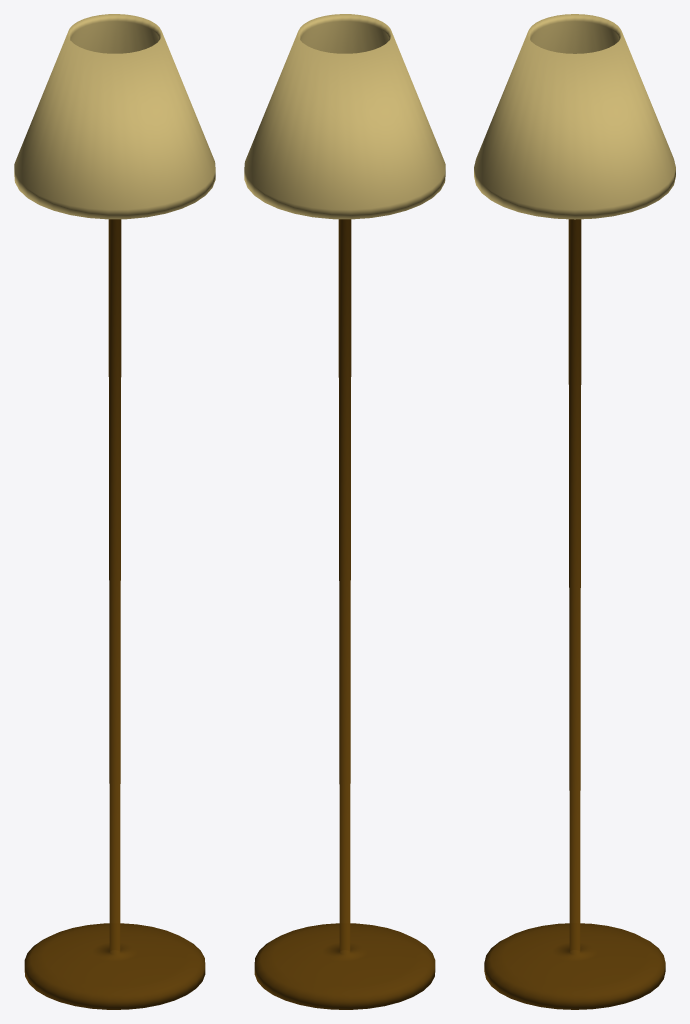
The model's file is VJ_Lampara_Peu.fbx.
3 views of the same model, side by side, from view 1: azimuth 30°, elevation 25°; view 2: azimuth 150°, elevation 25°; view 3: azimuth 270°, elevation 25° (orthographic).
Parts seen in each view (by area): view 1: Lampara_Peu; view 2: Lampara_Peu; view 3: Lampara_Peu.
Part boxes in pixels (x1,y1,x2,y2): Lampara_Peu: [14, 14, 215, 1009]; Lampara_Peu: [244, 14, 445, 1009]; Lampara_Peu: [474, 14, 675, 1009].
Size of the model in its own units: 6.31 by 32.34 by 6.31.
